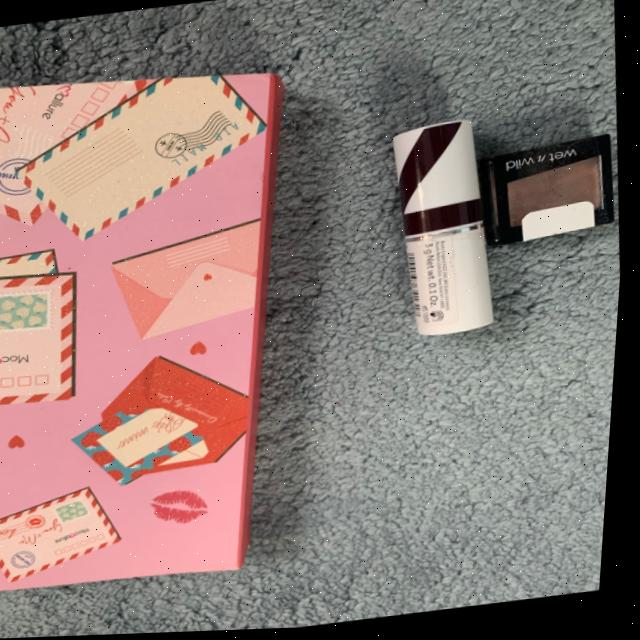bronzer: (471, 132, 629, 273)
lip stick: (360, 83, 521, 374)
makeup: (0, 35, 336, 608)
